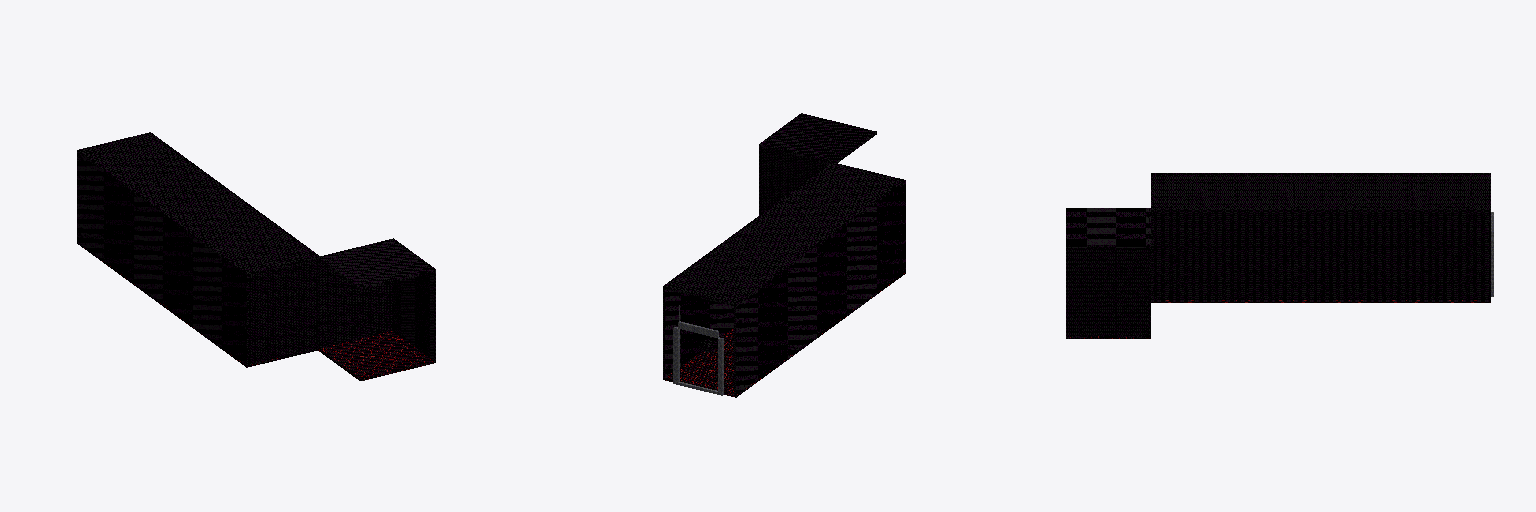
3 renders of one model, left to right at view 1: azimuth 30°, elevation 25°; view 2: azimuth 150°, elevation 25°; view 3: azimuth 270°, elevation 25°, orthographic.
Parts seen in each view (by area): view 1: Wall_L, Ceiling, Wall_BackHint, Wall_Turn_Back, Ceiling_Turn, Floor_Turn, Wall_Turn_End; view 2: Wall_L, Ceiling, Wall_R, Ceiling_Turn, Wall_Turn_Back, Floor; view 3: Wall_R, Ceiling, Wall_Turn_End, Ceiling_Turn, Floor, Wall_L.
Boxes of the visible parts, x1,y1,x2,y2 form: Wall_L: [77, 150, 248, 364]; Ceiling: [77, 132, 319, 276]; Wall_BackHint: [245, 255, 318, 367]; Wall_Turn_Back: [318, 239, 392, 348]; Ceiling_Turn: [318, 239, 435, 289]; Floor_Turn: [318, 331, 434, 380]; Wall_Turn_End: [392, 238, 435, 362]; Wall_L: [734, 179, 905, 396]; Ceiling: [663, 162, 905, 306]; Wall_R: [663, 163, 830, 377]; Ceiling_Turn: [759, 113, 876, 163]; Wall_Turn_Back: [759, 143, 834, 213]; Floor: [663, 271, 905, 397]; Wall_R: [1151, 209, 1490, 302]; Ceiling: [1151, 173, 1490, 211]; Wall_Turn_End: [1066, 244, 1150, 338]; Ceiling_Turn: [1066, 208, 1150, 247]; Floor: [1151, 300, 1490, 302]; Wall_L: [1151, 173, 1490, 174].
Bounding box in the file's own units: 6 × 3.65 × 15.1.
Materials: 4 (4 with a texture image).